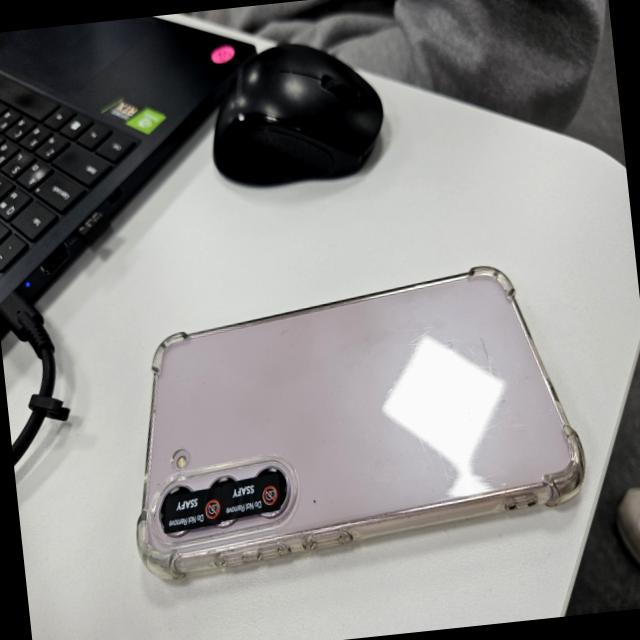phone: (109, 252, 590, 590)
sticker: (161, 489, 224, 529), (220, 476, 280, 518)
